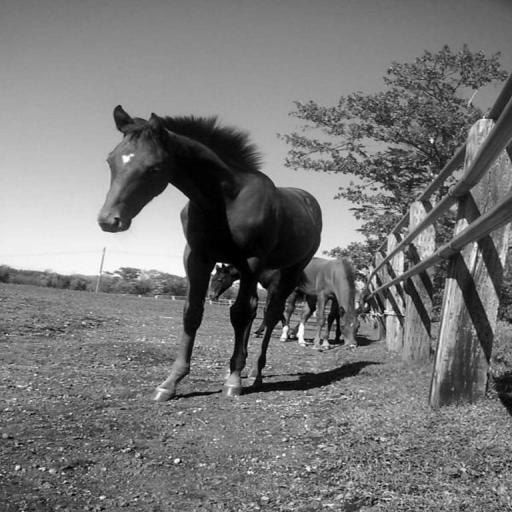horse: (96, 104, 326, 404), (206, 254, 314, 344), (292, 261, 367, 347)
